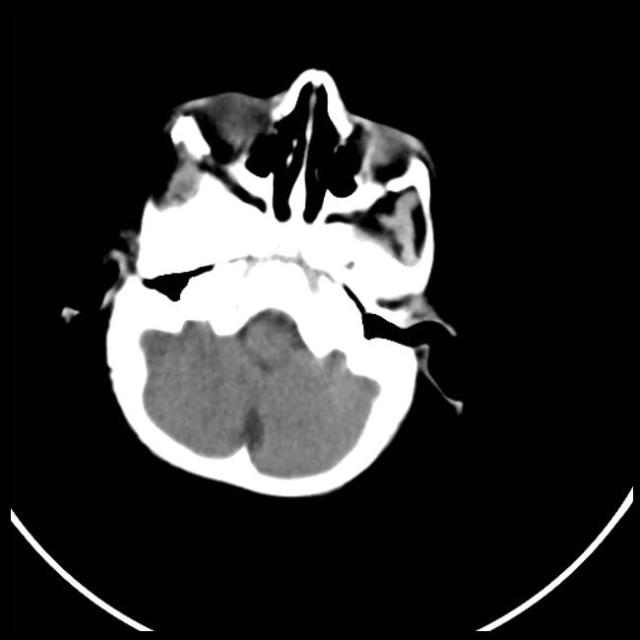lesion: (73, 64, 469, 501)
